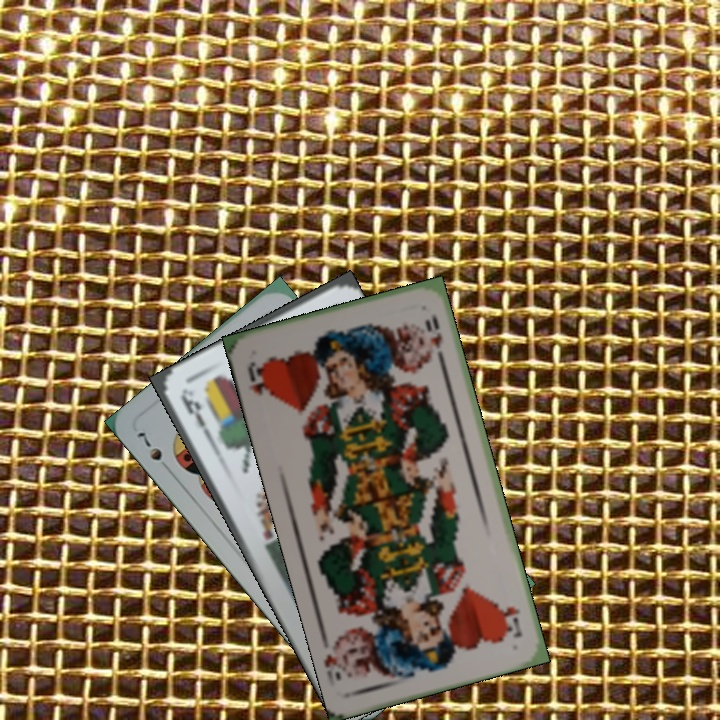EK: (176, 391, 214, 441)
HO: (244, 357, 274, 399), (498, 602, 525, 641)
S7: (133, 427, 174, 476)
